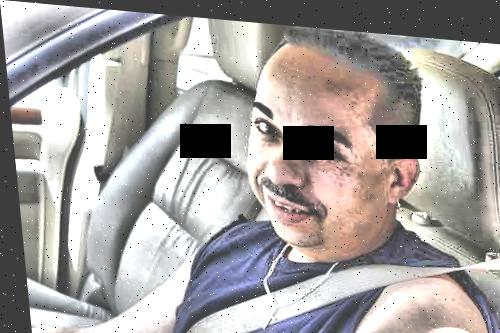seatbelt: (205, 217, 500, 333)
